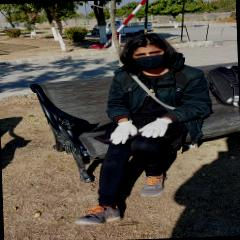gloved: (109, 120, 137, 145), (138, 118, 172, 138)
